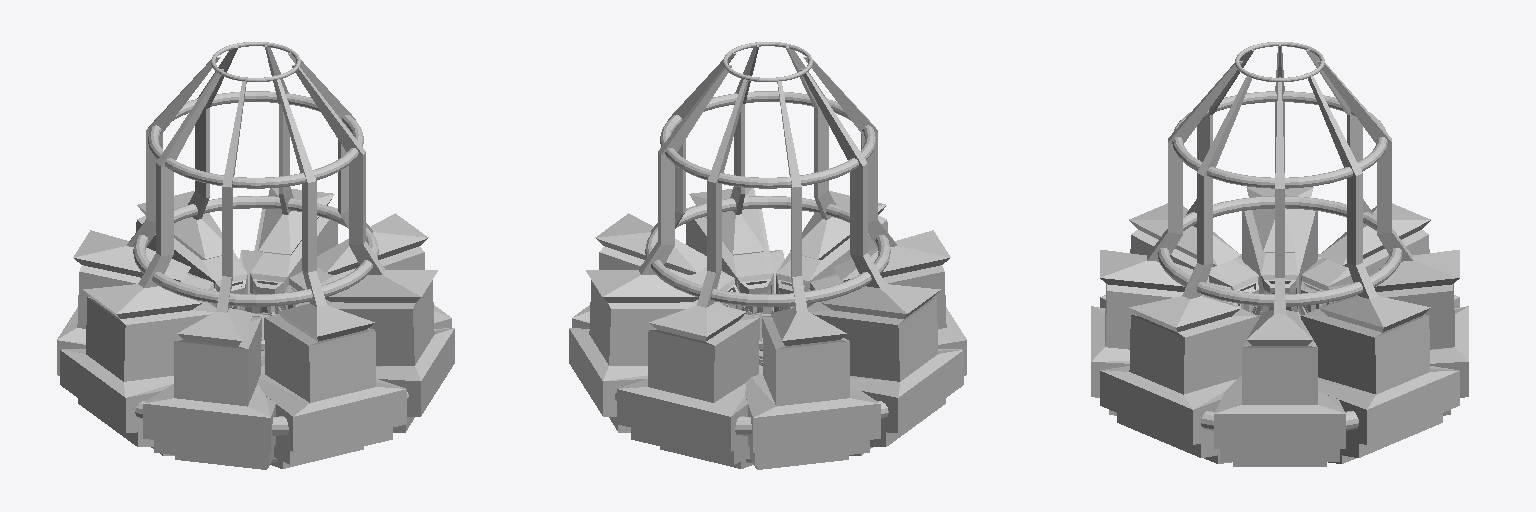
File: Dome.obj
3 views of the same model, side by side, from view 1: azimuth 30°, elevation 25°; view 2: azimuth 150°, elevation 25°; view 3: azimuth 270°, elevation 25° (orthographic).
Visible parts, largest first — view 1: Cube.001_Cube.002, Cube.004_Cube.005, Cube, Cube.006_Cube.007, Cube.005_Cube.006, Cube.007_Cube.008, Cube.002_Cube.003, Cube.003_Cube.004, Torus.001, Torus.007_Torus.008, Torus.008_Torus.009; view 2: Cube.003_Cube.004, Cube.005_Cube.006, Cube, Cube.007_Cube.008, Cube.004_Cube.005, Cube.006_Cube.007, Cube.002_Cube.003, Cube.001_Cube.002, Torus.001, Torus.007_Torus.008, Torus.008_Torus.009; view 3: Cube.007_Cube.008, Cube.006_Cube.007, Cube.002_Cube.003, Cube.001_Cube.002, Cube.003_Cube.004, Cube, Cube.005_Cube.006, Cube.004_Cube.005, Torus.001, Torus.007_Torus.008, Torus.008_Torus.009.
Part boxes in pixels (bbox=[...]): Cube.001_Cube.002: bbox=[258, 75, 406, 468]; Cube.004_Cube.005: bbox=[143, 81, 275, 469]; Cube: bbox=[60, 69, 223, 455]; Cube.006_Cube.007: bbox=[264, 65, 454, 432]; Cube.005_Cube.006: bbox=[57, 56, 220, 375]; Cube.007_Cube.008: bbox=[239, 45, 337, 313]; Cube.002_Cube.003: bbox=[285, 52, 451, 328]; Cube.003_Cube.004: bbox=[136, 46, 247, 310]; Torus.001: bbox=[133, 196, 378, 306]; Torus.007_Torus.008: bbox=[148, 91, 363, 188]; Torus.008_Torus.009: bbox=[211, 42, 300, 81]; Cube.003_Cube.004: bbox=[617, 75, 762, 468]; Cube.005_Cube.006: bbox=[745, 81, 880, 469]; Cube: bbox=[800, 69, 963, 455]; Cube.007_Cube.008: bbox=[569, 65, 759, 432]; Cube.004_Cube.005: bbox=[803, 56, 966, 375]; Cube.006_Cube.007: bbox=[686, 45, 784, 313]; Cube.002_Cube.003: bbox=[572, 52, 738, 328]; Cube.001_Cube.002: bbox=[776, 46, 887, 310]; Torus.001: bbox=[645, 196, 890, 306]; Torus.007_Torus.008: bbox=[660, 91, 875, 188]; Torus.008_Torus.009: bbox=[723, 42, 812, 81]; Cube.007_Cube.008: bbox=[1301, 73, 1459, 463]; Cube.006_Cube.007: bbox=[1100, 73, 1258, 463]; Cube.002_Cube.003: bbox=[1214, 77, 1345, 466]; Cube.001_Cube.002: bbox=[1091, 61, 1242, 415]; Cube.003_Cube.004: bbox=[1317, 61, 1468, 415]; Cube: bbox=[1238, 44, 1321, 315]; Cube.005_Cube.006: bbox=[1301, 49, 1459, 312]; Cube.004_Cube.005: bbox=[1100, 49, 1258, 312]; Torus.001: bbox=[1157, 196, 1402, 306]; Torus.007_Torus.008: bbox=[1172, 91, 1387, 188]; Torus.008_Torus.009: bbox=[1235, 42, 1324, 81].
Size of the model in its own units: 28.2 by 32.34 by 28.2.